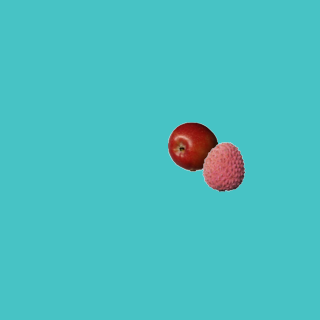Apple Braeburn: (167, 121, 217, 171)
Lychee: (198, 141, 248, 191)
